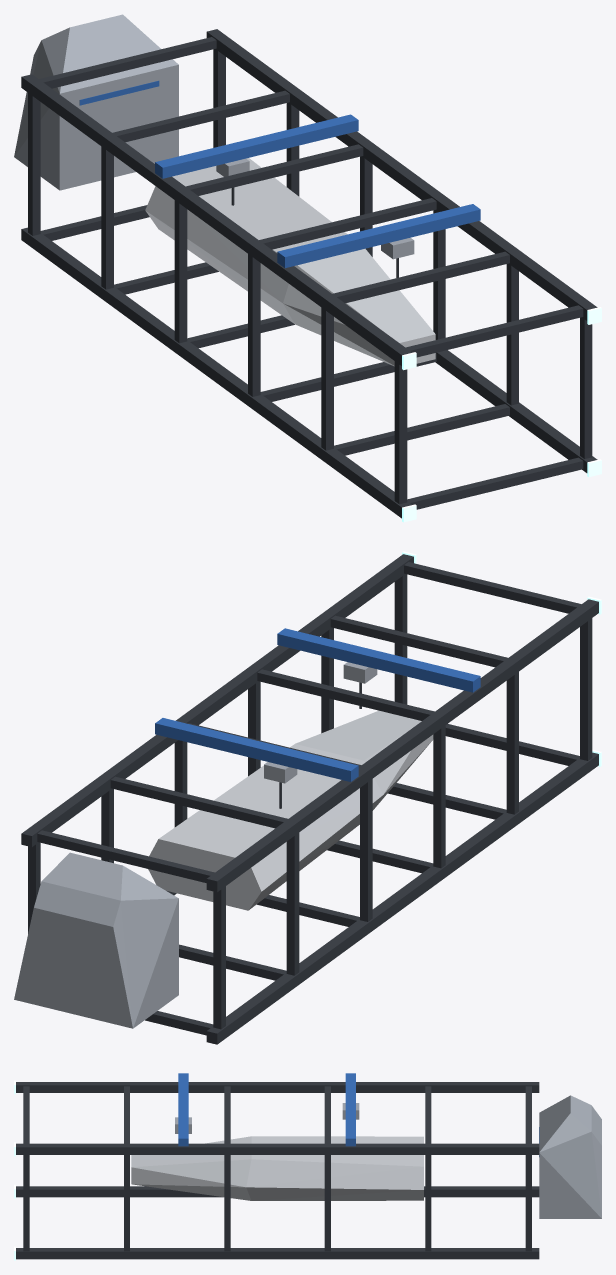
The model's file is Shipyard_L1.glb.
3 renders of one model, top to bottom at view 1: azimuth 30°, elevation 25°; view 2: azimuth 150°, elevation 25°; view 3: azimuth 270°, elevation 25°, orthographic. The views are drawn at different scales.
Parts seen in each view (by area): view 1: hull_in_progress, control_block, frame_beam_1, frame_beam_3, frame_beam_0, gantry_0, gantry_1, frame_beam_2, rib_top_3, rib_top_2, rib_top_4, rib_top_0 (+20 smaller); view 2: control_block, hull_in_progress, frame_beam_1, frame_beam_3, frame_beam_0, gantry_1, gantry_0, rib_top_0, rib_top_4, rib_top_1, rib_top_3, rib_top_5 (+18 smaller); view 3: hull_in_progress, control_block, frame_beam_0, frame_beam_2, frame_beam_1, frame_beam_3, gantry_1, gantry_0, rib_R_1, rib_R_3, rib_R_2, rib_R_5 (+8 smaller).
Part boxes in pixels (x1=…): hull_in_progress: x1=145, y1=158, x2=435, y2=366; control_block: x1=14, y1=14, x2=178, y2=190; frame_beam_1: x1=21, y1=74, x2=411, y2=365; frame_beam_3: x1=21, y1=227, x2=411, y2=518; frame_beam_0: x1=206, y1=29, x2=597, y2=320; gantry_0: x1=155, y1=114, x2=358, y2=178; gantry_1: x1=277, y1=204, x2=480, y2=268; frame_beam_2: x1=435, y1=350, x2=597, y2=472; rib_top_3: x1=246, y1=198, x2=436, y2=254; rib_top_2: x1=173, y1=144, x2=363, y2=200; rib_top_4: x1=320, y1=251, x2=509, y2=307; rib_top_0: x1=26, y1=37, x2=216, y2=92; control_block: x1=14, y1=852, x2=178, y2=1028; hull_in_progress: x1=148, y1=710, x2=433, y2=910; frame_beam_1: x1=206, y1=599, x2=598, y2=892; frame_beam_3: x1=206, y1=752, x2=598, y2=1044; frame_beam_0: x1=21, y1=554, x2=413, y2=846; gantry_1: x1=277, y1=628, x2=480, y2=692; gantry_0: x1=155, y1=718, x2=358, y2=781; rib_top_0: x1=37, y1=830, x2=227, y2=886; rib_top_4: x1=330, y1=615, x2=520, y2=671; rib_top_1: x1=110, y1=776, x2=300, y2=832; rib_top_3: x1=257, y1=669, x2=446, y2=725; rib_top_5: x1=404, y1=562, x2=593, y2=617; hull_in_progress: x1=131, y1=1136, x2=423, y2=1200; control_block: x1=539, y1=1095, x2=601, y2=1218; frame_beam_0: x1=16, y1=1143, x2=539, y2=1154; frame_beam_2: x1=16, y1=1248, x2=539, y2=1259; frame_beam_1: x1=16, y1=1082, x2=539, y2=1092; frame_beam_3: x1=16, y1=1186, x2=539, y2=1197; gantry_1: x1=178, y1=1073, x2=188, y2=1146; gantry_0: x1=345, y1=1073, x2=355, y2=1146; rib_R_1: x1=425, y1=1144, x2=431, y2=1251; rib_R_3: x1=224, y1=1144, x2=230, y2=1251; rib_R_2: x1=324, y1=1144, x2=330, y2=1251; rib_R_5: x1=23, y1=1144, x2=29, y2=1251.
Size of the model in its own units: 150 by 130 by 562.
